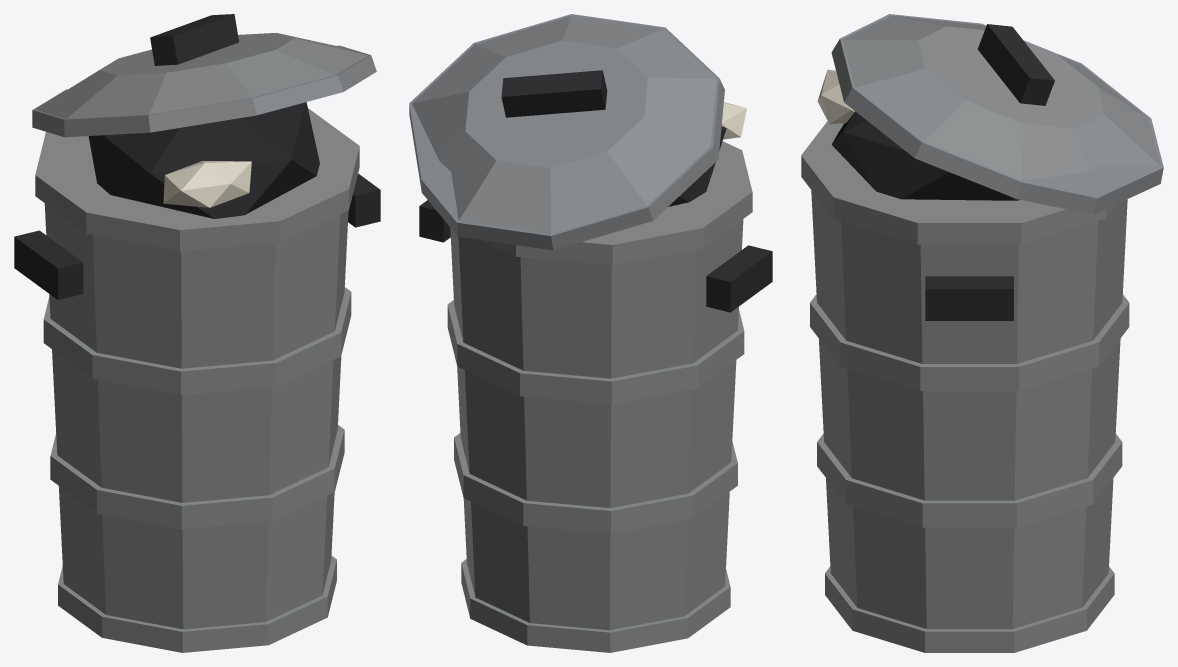
The model's file is trash_can.glb.
3 renders of one model, left to right at view 1: azimuth 30°, elevation 25°; view 2: azimuth 150°, elevation 25°; view 3: azimuth 270°, elevation 25°, orthographic. The views are drawn at different scales.
Visible parts, largest first — view 1: trash_can; view 2: trash_can; view 3: trash_can.
Part boxes in pixels (x1,y1,x2,y2): trash_can: (14, 14, 380, 652); trash_can: (409, 14, 772, 652); trash_can: (801, 14, 1163, 652).
Bounding box in the file's own units: 0.6578 × 1.05 × 0.6133.
